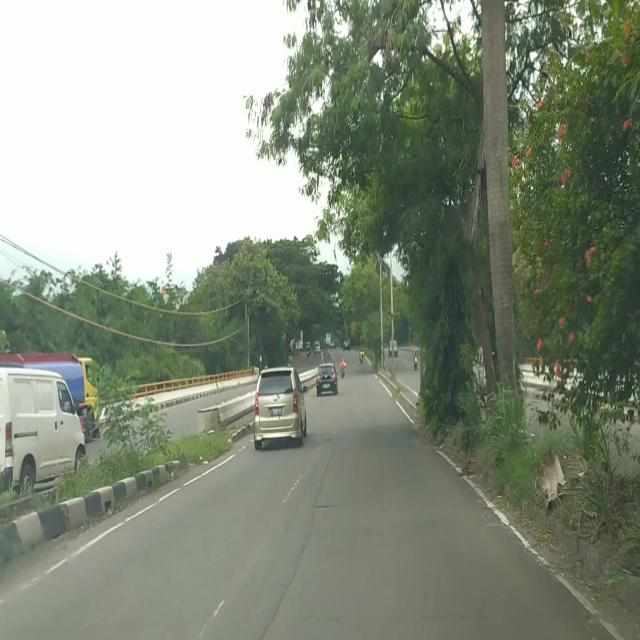Sewer Cover: (314, 501, 342, 509)
